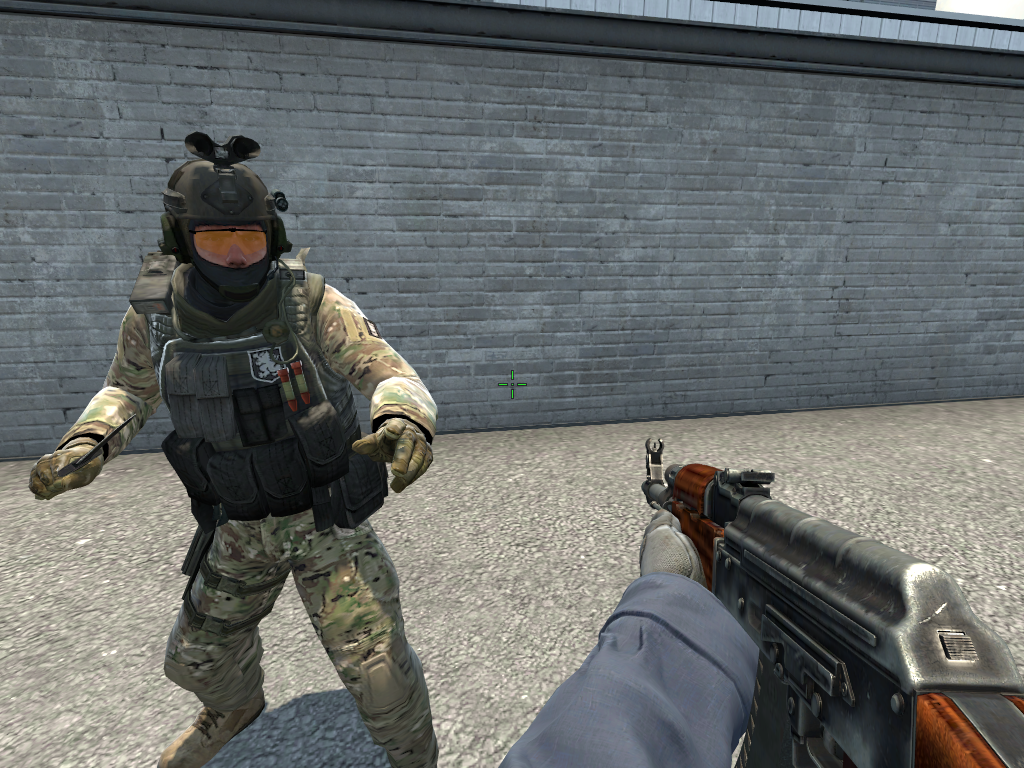ct head: (155, 127, 294, 300)
